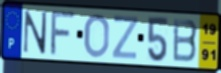5: (146, 15, 170, 64)
B: (172, 17, 200, 64)
F: (49, 10, 78, 57)
N: (22, 9, 49, 56)
O: (83, 12, 111, 59)
Z: (110, 14, 139, 61)
